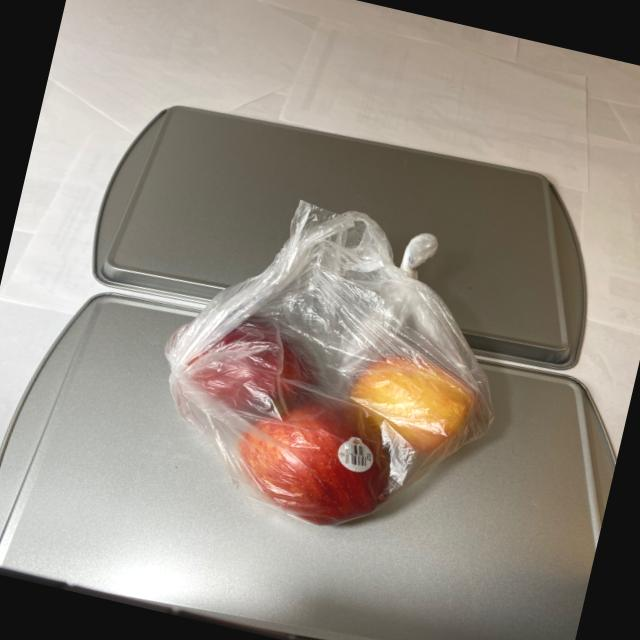apple: (136, 293, 498, 556)
